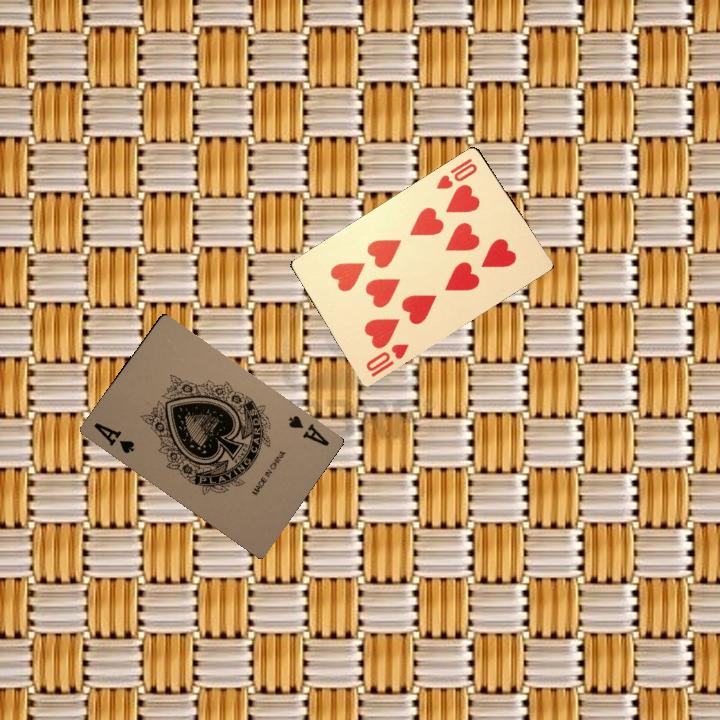10h: (362, 339, 411, 379), (432, 154, 480, 192)
As: (284, 411, 332, 449), (90, 419, 137, 456)
